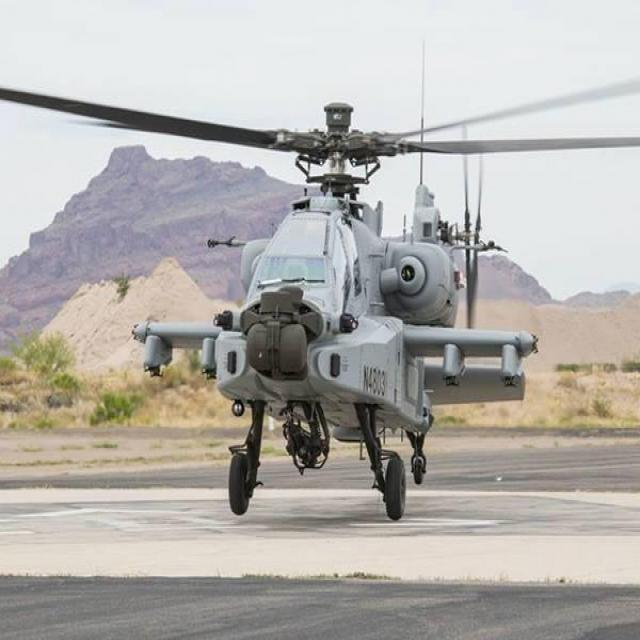MIL_HELO: (0, 50, 640, 529)
